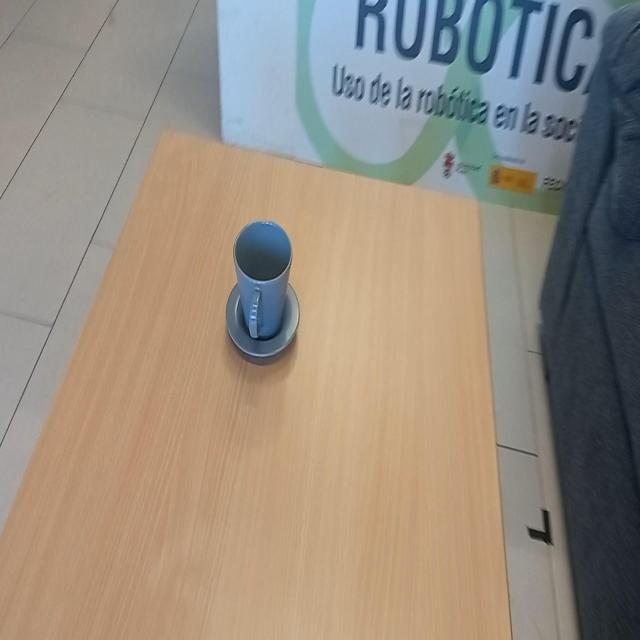cup: (232, 218, 294, 352)
